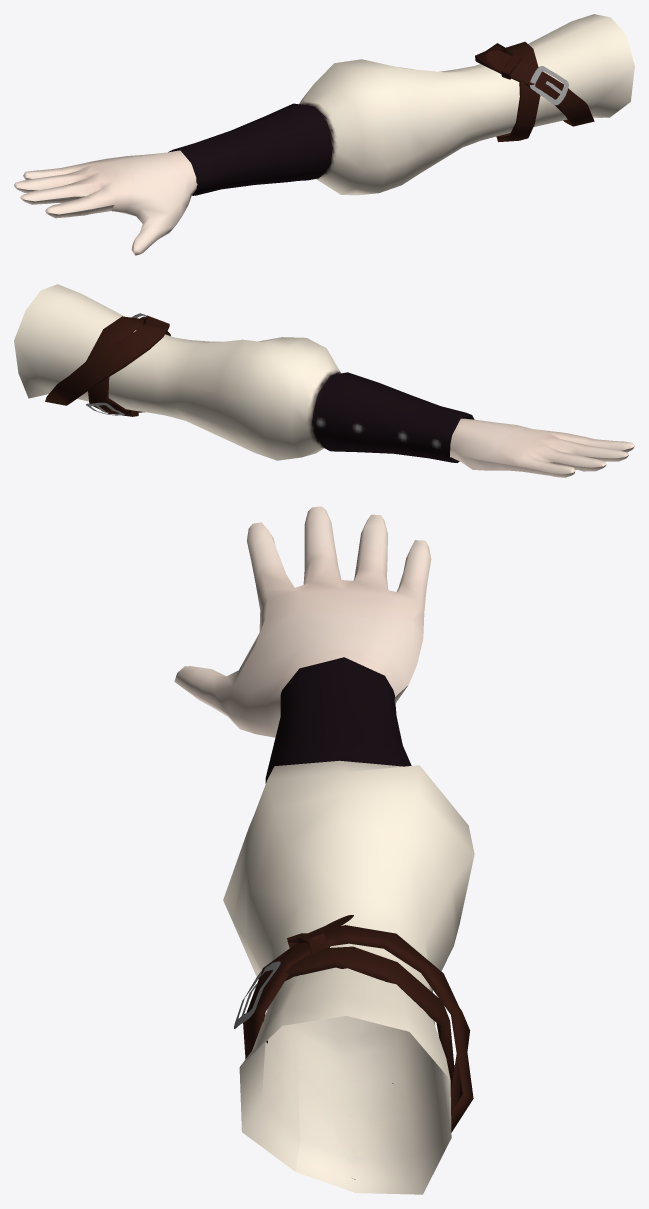
The model's file is RubyBrazoDer.obj.
3 renders of one model, top to bottom at view 1: azimuth 30°, elevation 25°; view 2: azimuth 150°, elevation 25°; view 3: azimuth 270°, elevation 25°, orthographic. The views are drawn at different scales.
Parts seen in each view (by area): view 1: node_id28.001_Material_0; view 2: node_id28.001_Material_0; view 3: node_id28.001_Material_0.
Part boxes in pixels (<box>): node_id28.001_Material_0: <box>14,14,634,255</box>; node_id28.001_Material_0: <box>14,284,634,477</box>; node_id28.001_Material_0: <box>174,506,474,1194</box>.
Size of the model in its own units: 0.1215 by 0.0222 by 0.0272.
